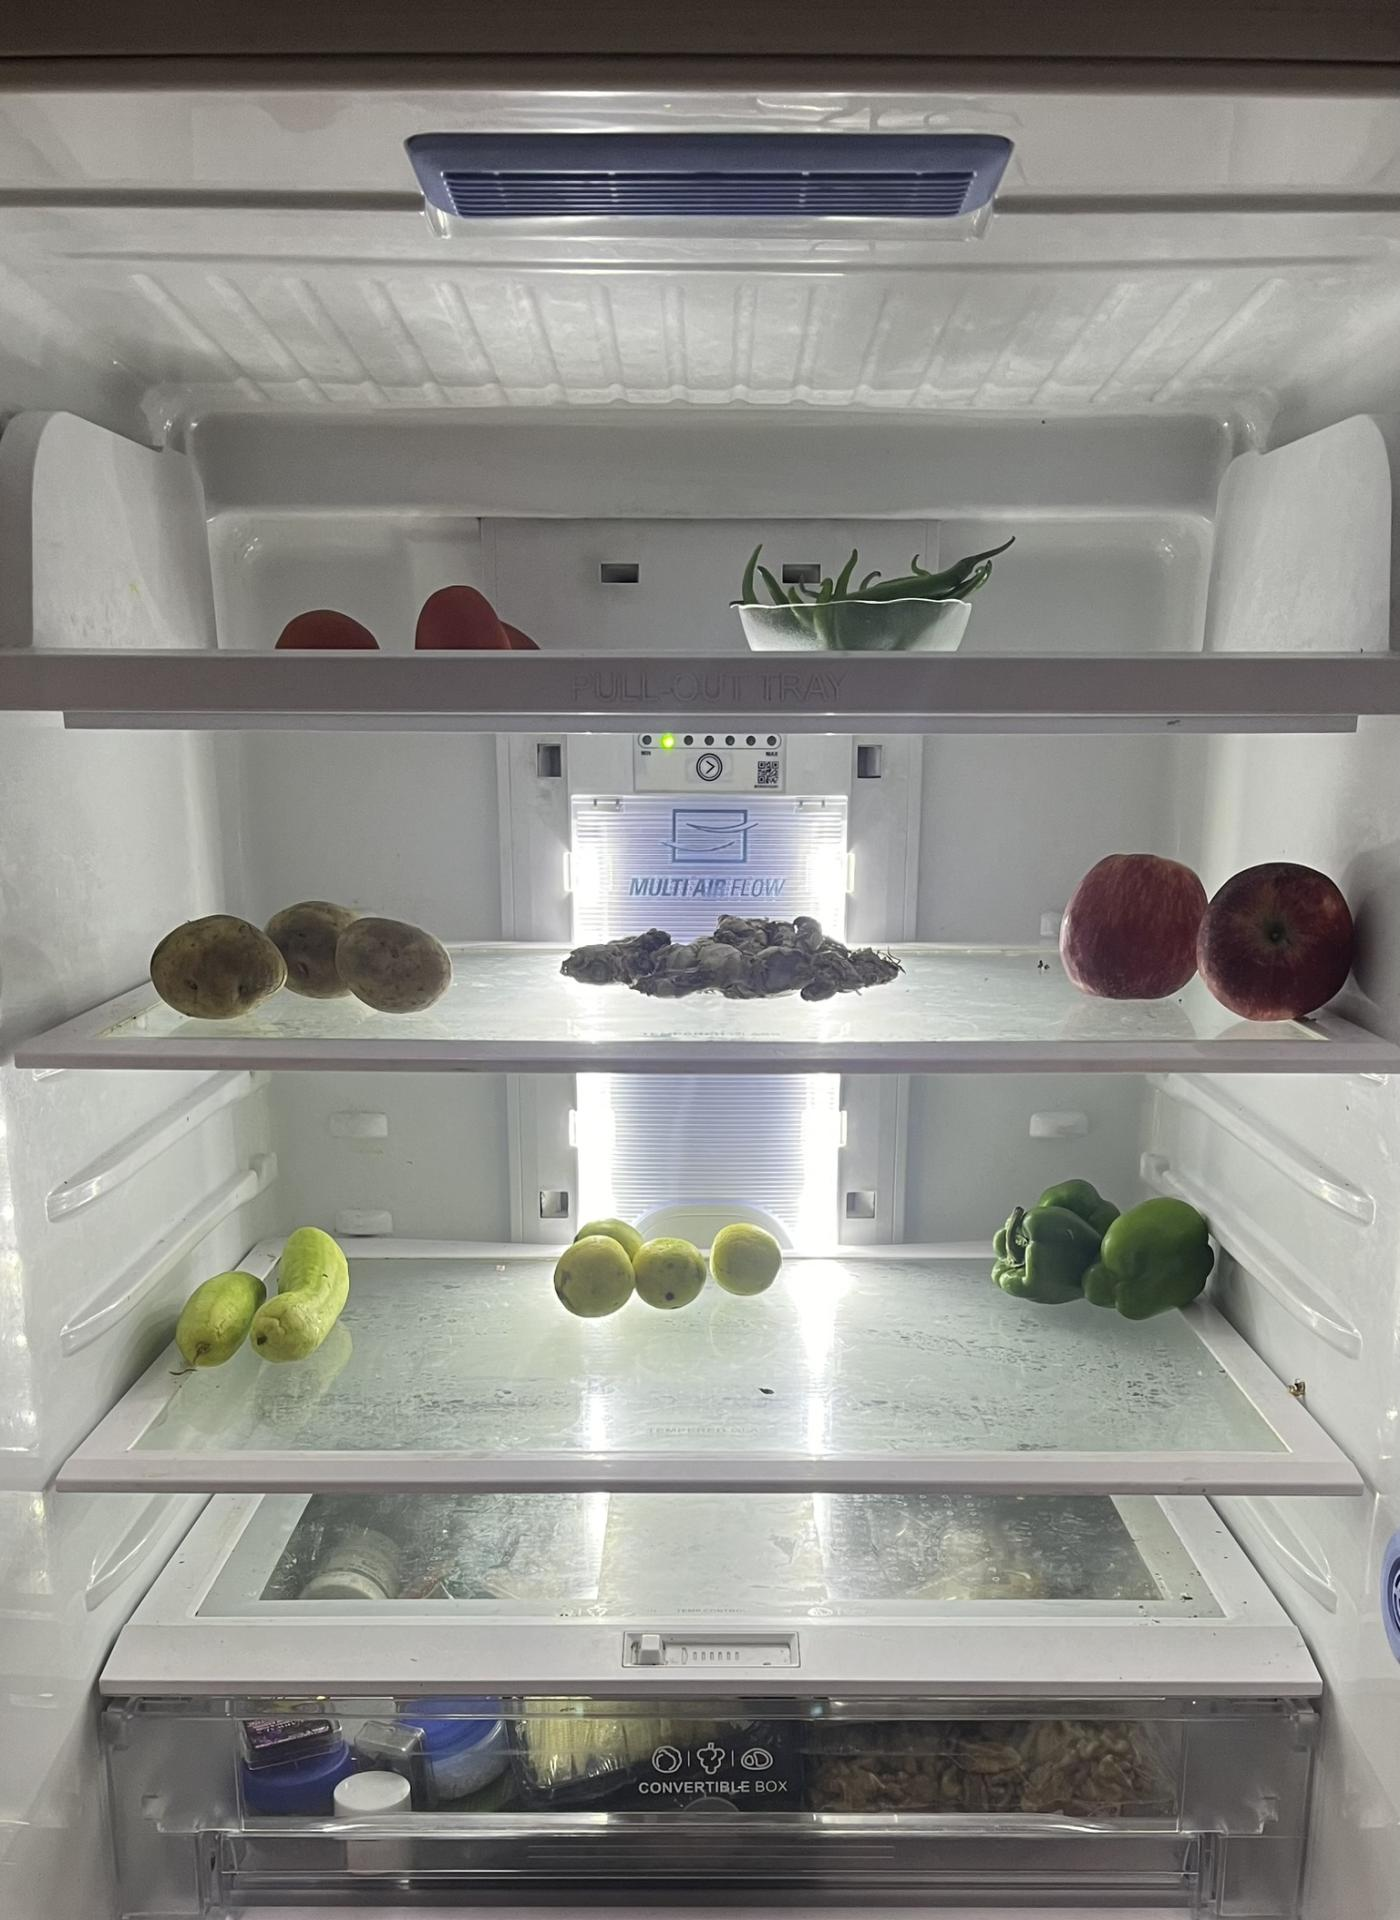apple: (1200, 856, 1355, 1026), (1060, 838, 1209, 997)
capsicum: (993, 1169, 1245, 1312)
chillies: (723, 531, 1009, 647)
cucumber: (164, 1219, 362, 1371)
ginger: (559, 909, 902, 1006)
lemon: (547, 1206, 799, 1316)
potato: (152, 894, 465, 1026)
tomato: (280, 599, 407, 662), (413, 604, 529, 647)
